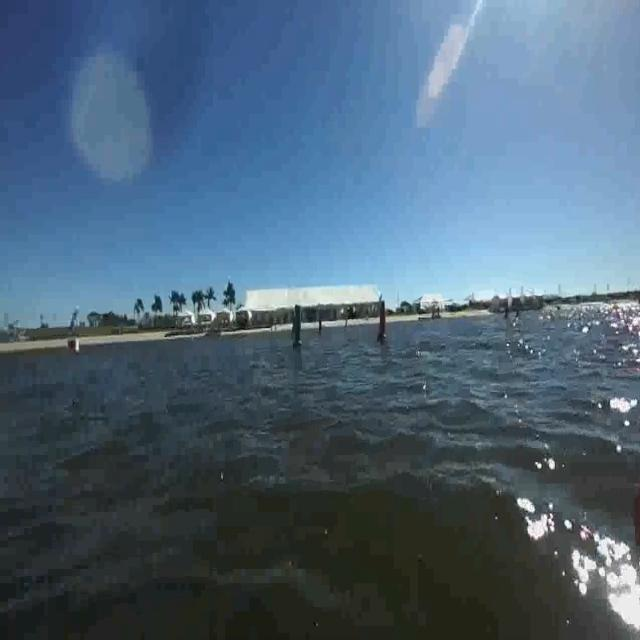green-column-buoy: (289, 303, 304, 349)
red-column-buoy: (377, 301, 387, 338)
